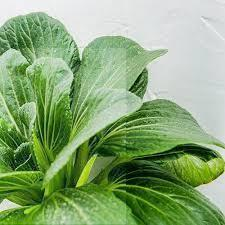Healthy-Pechay: (0, 14, 86, 225), (76, 30, 157, 225), (138, 94, 223, 186), (128, 176, 225, 225)
